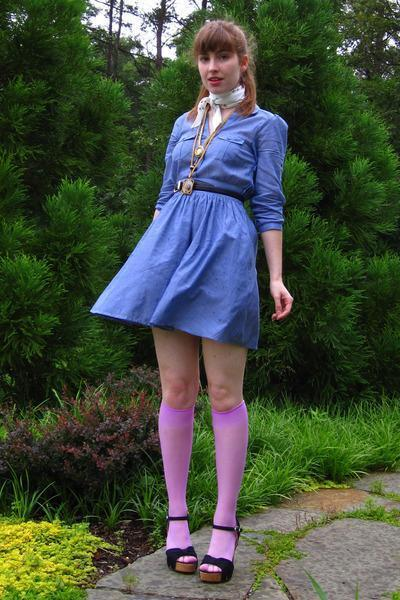dress: (90, 113, 287, 351)
shoe: (166, 546, 233, 583)
